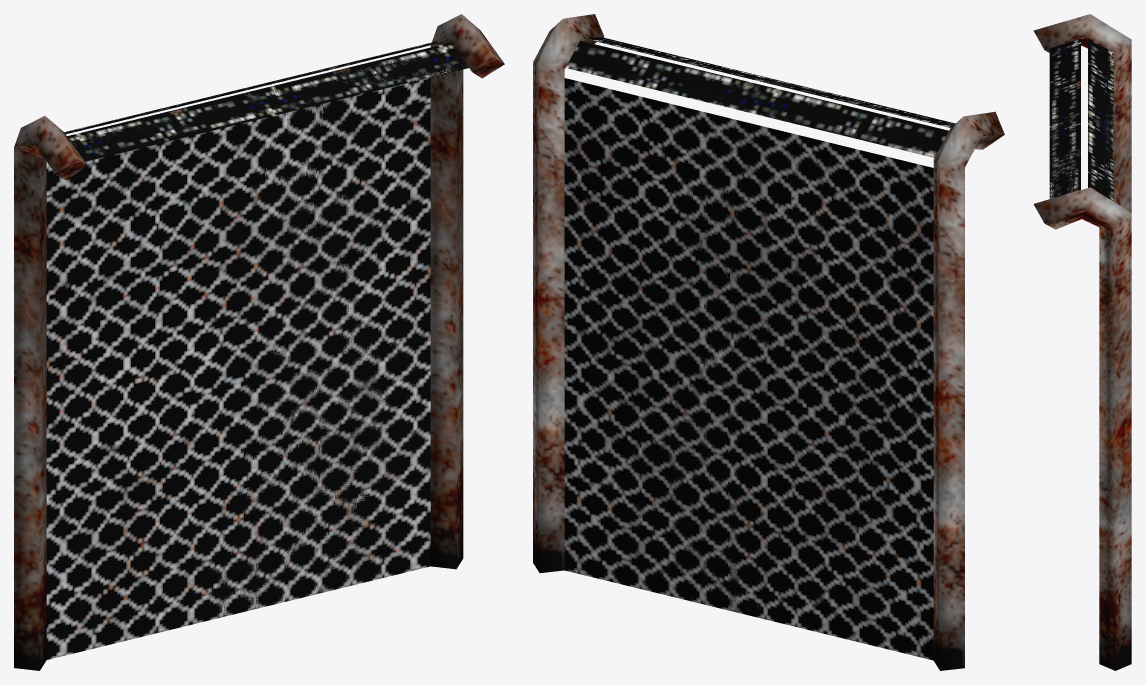
The model's file is ConcreteBarrierWithFence_001.fbx.
3 views of the same model, side by side, from view 1: azimuth 30°, elevation 25°; view 2: azimuth 150°, elevation 25°; view 3: azimuth 270°, elevation 25° (orthographic). The views are drawn at different scales.
Visible parts, largest first — view 1: ConcreteBarrierWithFence.001; view 2: ConcreteBarrierWithFence.001; view 3: ConcreteBarrierWithFence.001.
Part boxes in pixels (box(x1,y1,x2,y2)): ConcreteBarrierWithFence.001: box(14, 14, 504, 670); ConcreteBarrierWithFence.001: box(533, 14, 1004, 670); ConcreteBarrierWithFence.001: box(1033, 14, 1131, 670).
Bounding box in the file's own units: 194 × 231 × 43.06.
